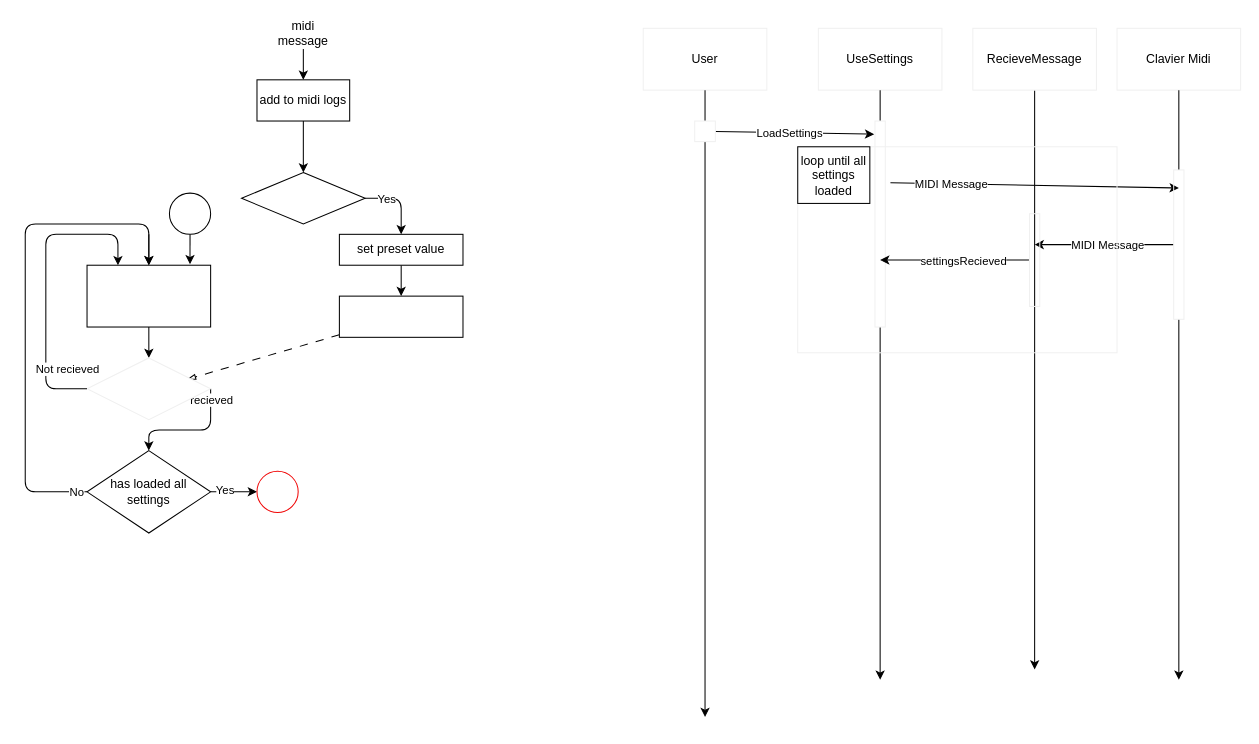
Some shapes in this 1259 by 744 pixel diagram are drawn without their labels. Here are the shapes that lost their labels. From the top down, the centre of each, then its label:
(x=303, y=197): isSysex
(x=148, y=295): sendSysex
(x=400, y=316): update loading advancement
(x=148, y=388): wait to recieve setting value
